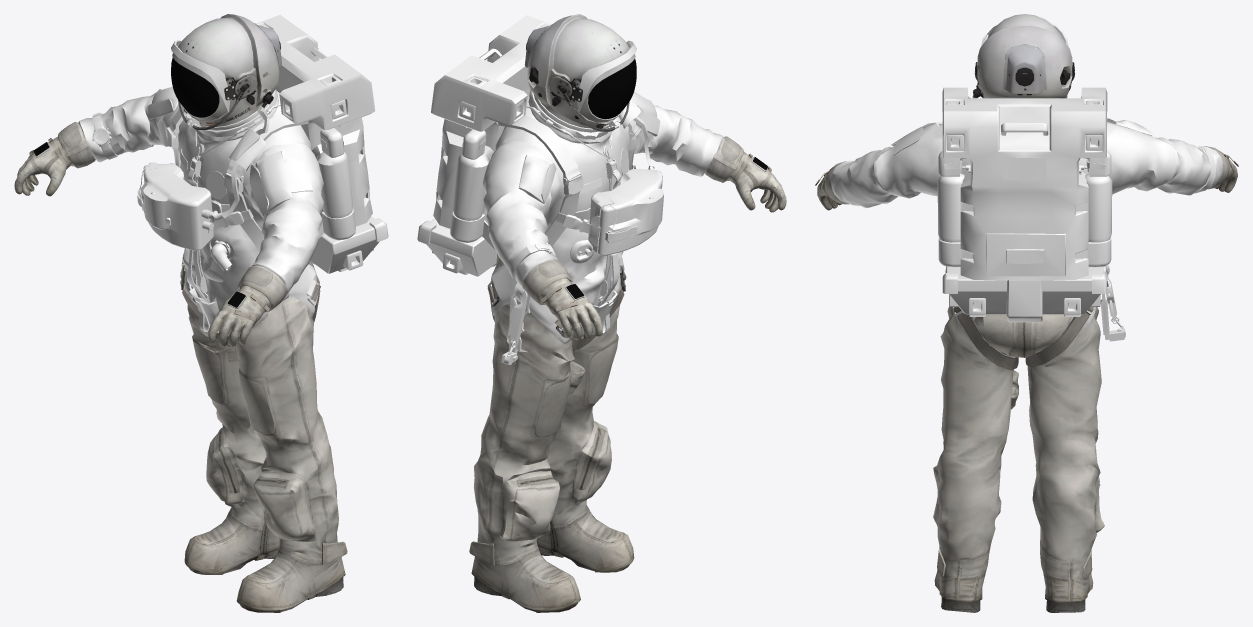
Rendered from cosmo-optimized.glb.
3 renders of one model, left to right at view 1: azimuth 30°, elevation 25°; view 2: azimuth 150°, elevation 25°; view 3: azimuth 270°, elevation 25°, orthographic.
Visible parts, largest first — view 1: Object_8, Object_22, Object_14, Object_10, Object_20, Object_16, Object_4, Object_18, Object_24; view 2: Object_8, Object_22, Object_14, Object_10, Object_20, Object_16, Object_18, Object_4, Object_24; view 3: Object_14, Object_8, Object_22, Object_20, Object_10, Object_18, Object_16.
Part boxes in pixels (x1,y1,x2,y2): Object_8: (180,260,347,565); Object_22: (78,87,324,336); Object_14: (140,14,388,305); Object_10: (184,513,345,612); Object_20: (172,14,281,129); Object_16: (14,122,287,346); Object_4: (140,40,280,217); Object_18: (91,112,321,230); Object_24: (171,58,219,117); Object_8: (469,253,626,565); Object_22: (482,91,723,343); Object_14: (417,15,663,306); Object_10: (471,509,634,612); Object_20: (524,14,635,131); Object_16: (523,136,786,340); Object_18: (484,100,652,364); Object_4: (507,40,654,356); Object_24: (588,59,636,119); Object_14: (937,87,1112,322); Object_8: (933,306,1104,579); Object_22: (830,118,1222,327); Object_20: (973,14,1074,98); Object_10: (934,570,1093,612); Object_18: (960,146,1216,341); Object_16: (815,146,1238,210).
Bounding box in the file's own units: 0.8505 × 1.9 × 1.3.
Materials: 8 (4 with a texture image).
